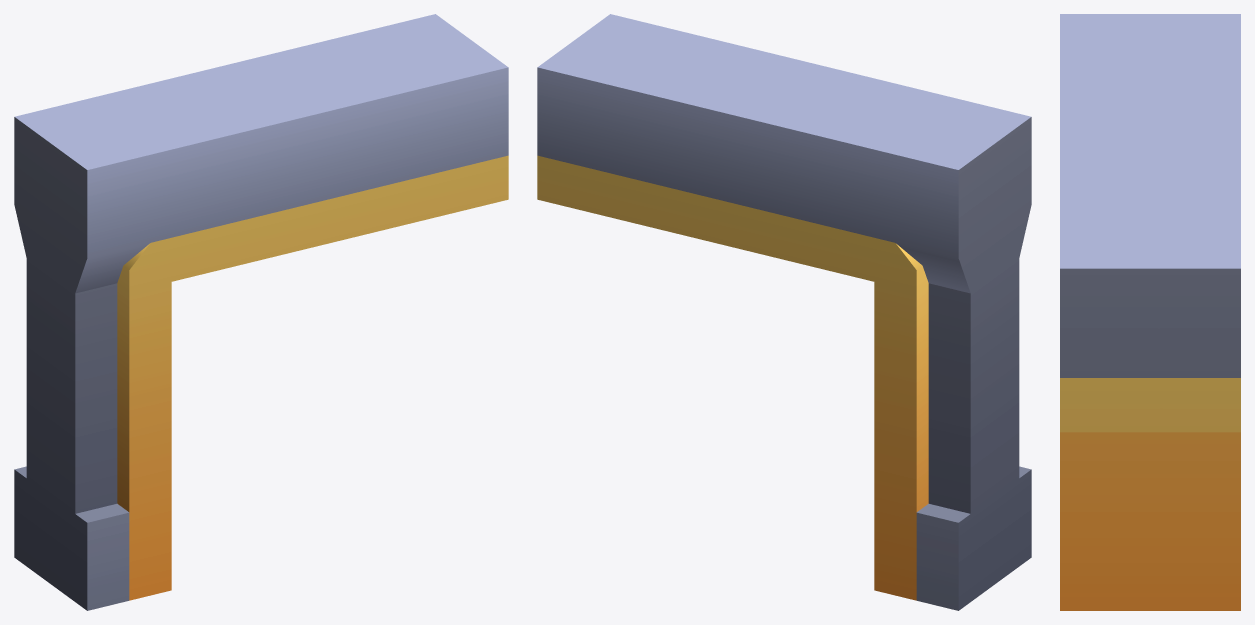
File: kenney-space-station-wall-door-edge.glb
3 views of the same model, side by side, from view 1: azimuth 30°, elevation 25°; view 2: azimuth 150°, elevation 25°; view 3: azimuth 270°, elevation 25° (orthographic). The views are drawn at different scales.
Visible parts, largest first — view 1: wall-door-edge; view 2: wall-door-edge; view 3: wall-door-edge.
Part boxes in pixels (x1,y1,x2,y2): wall-door-edge: (14, 14, 508, 610); wall-door-edge: (537, 14, 1031, 610); wall-door-edge: (1060, 14, 1240, 610).
Bounding box in the file's own units: 1 × 1 × 0.3.
1 material, 1 textured.
